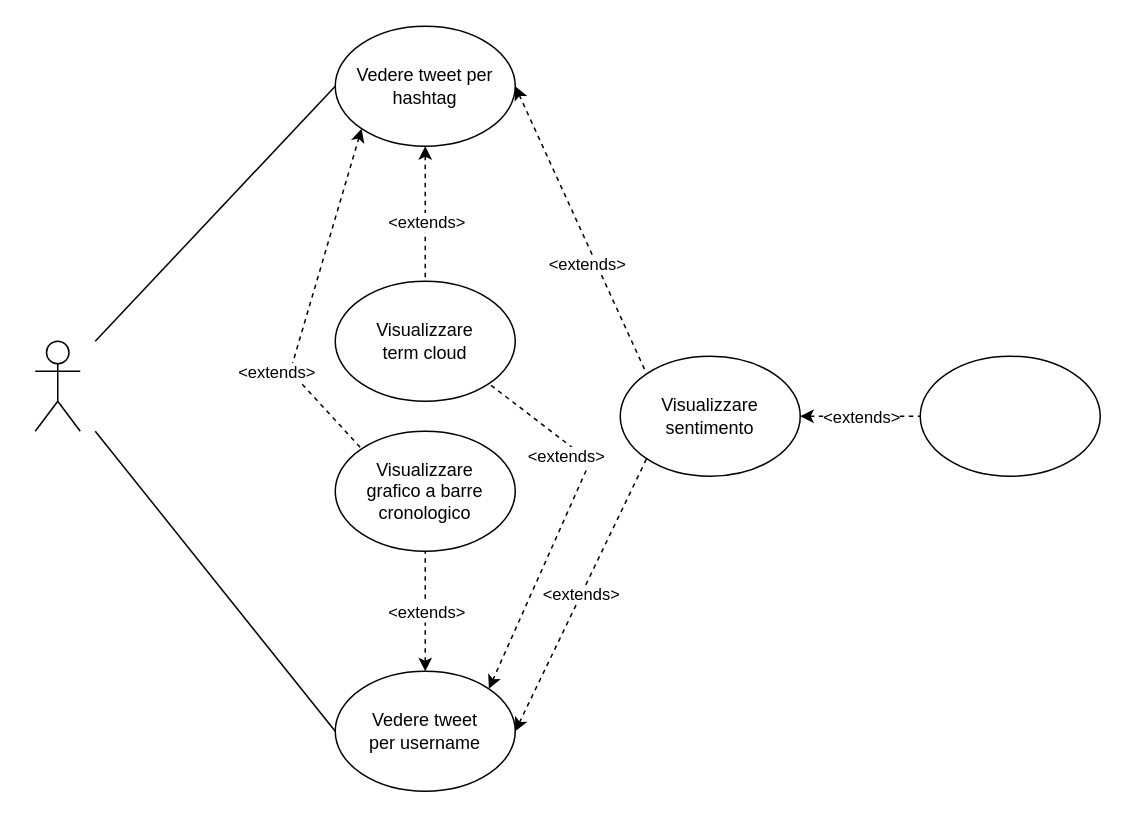
Some shapes in this 1127 by 818 pixel diagram are drawn without their labels. The shapes that lost their labels are listed below. From the top down, each one's box as (x1, y1, x2, y2) in pixels, then its label:
(34, 340, 80, 431): Analista
(919, 355, 1100, 476): Visualizzare grafico a torta
